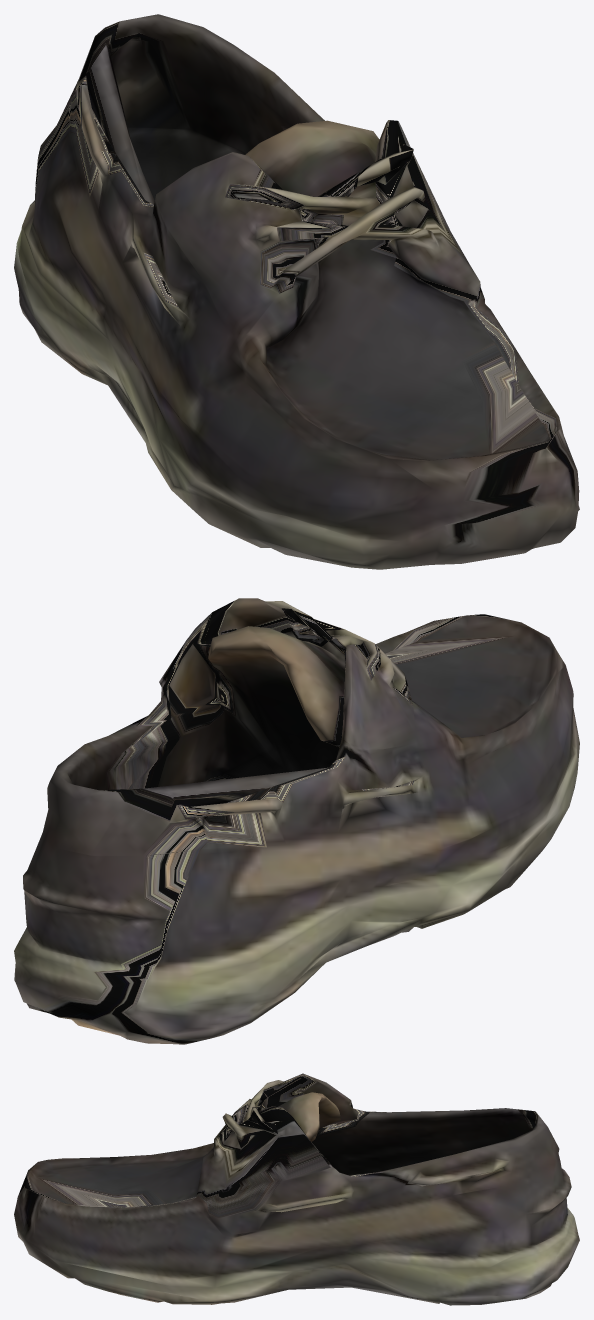
File: gso_mens_asv_billfish_boat_shoe_in_dark_brown_leather_zdhvhxuei3w.glb
3 views of the same model, one above another, from view 1: azimuth 30°, elevation 25°; view 2: azimuth 150°, elevation 25°; view 3: azimuth 270°, elevation 25° (orthographic). The views are drawn at different scales.
Parts seen in each view (by area): view 1: z-up-to-y-up; view 2: z-up-to-y-up; view 3: z-up-to-y-up.
Part boxes in pixels (x1,y1,x2,y2): z-up-to-y-up: (14, 14, 579, 569); z-up-to-y-up: (14, 598, 579, 1044); z-up-to-y-up: (14, 1073, 579, 1305).
Bounding box in the file's own units: 0.1082 × 0.1071 × 0.292.
Materials: 1 (1 with a texture image).
